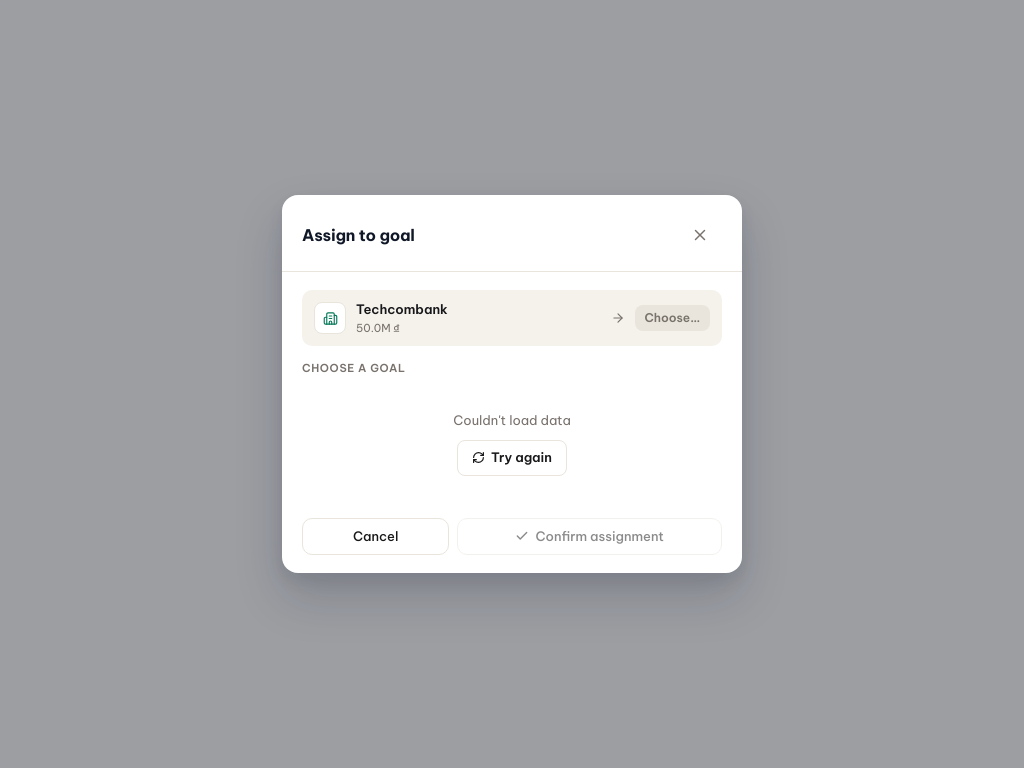
Test case: AssignGoalSheet — goals load error vs empty › retry re-fetches and renders the goals on success
This screenshot has width=1024, height=768.
Expected: the message "Couldn't load data Try again" is shown, top-left (453, 412), bottom-right (571, 476)
Click the button with test id "load-error-retry" at (512, 458), box top-left (457, 440), bottom-right (567, 476)
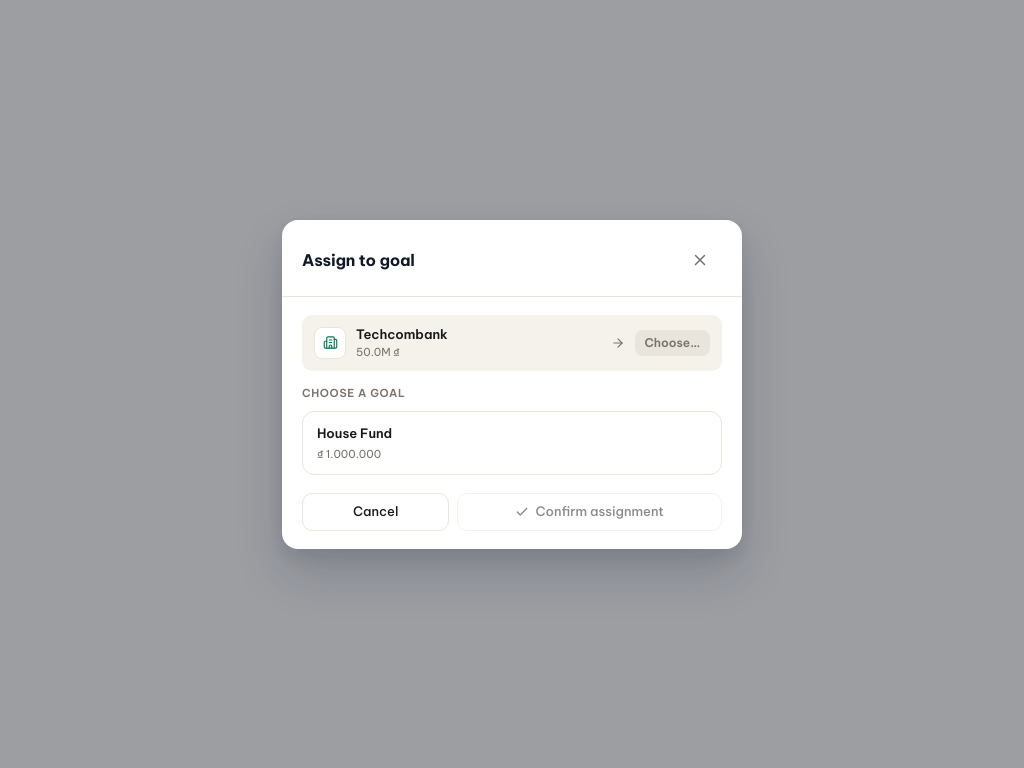
Expected: the text "House Fund" is shown, top-left (317, 425), bottom-right (392, 441)
Expected: the message with test id "load-error" is gone
